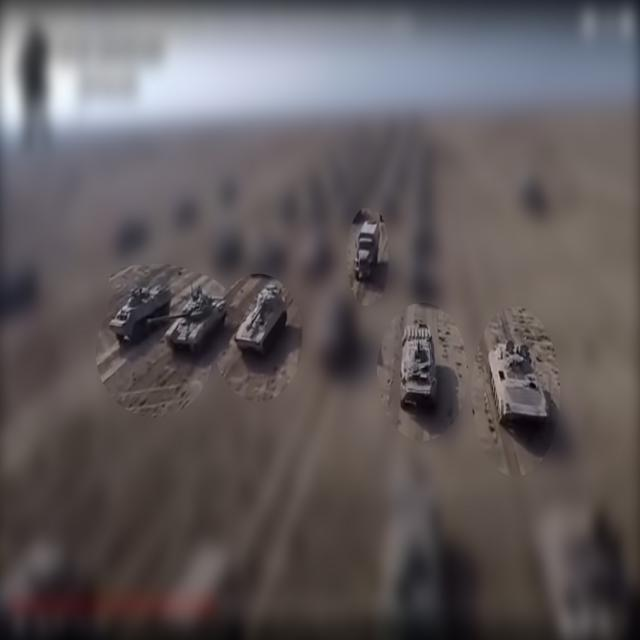tank: (485, 340, 551, 435), (144, 294, 228, 356), (105, 278, 172, 351), (233, 276, 289, 362), (398, 321, 440, 411)
